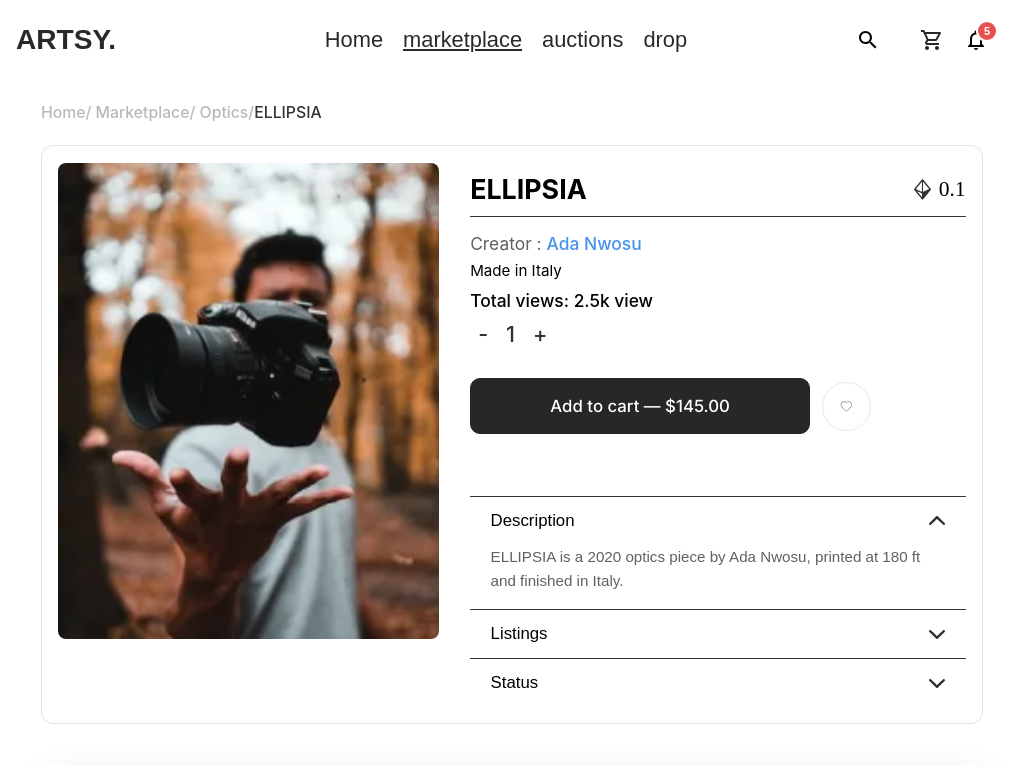
Test: adding from the item page grows the cart
Click the button named "Increase quantity": x=540, y=334 [525,321,556,347]
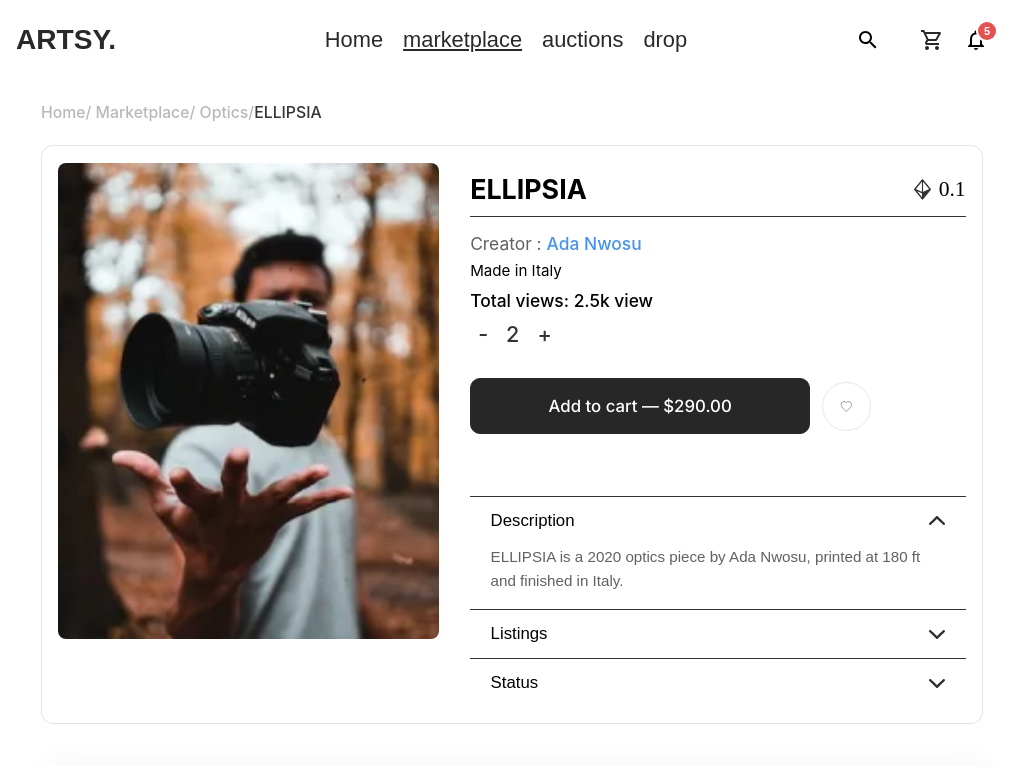
Click the button "Add to cart — $290.00": x=640, y=406 [470,378,810,434]
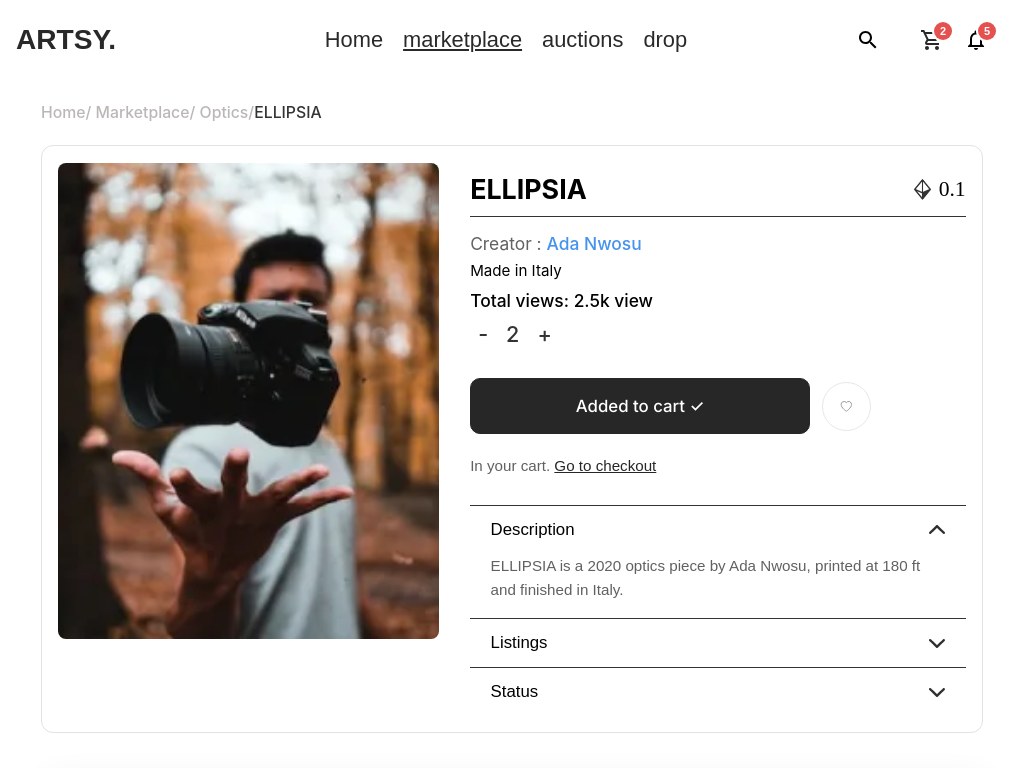
Check: the element with class "cart_dot" is shown, box [934,22,952,40]
Check: the text with class "cart_count" reads "2", box [940,24,946,36]
